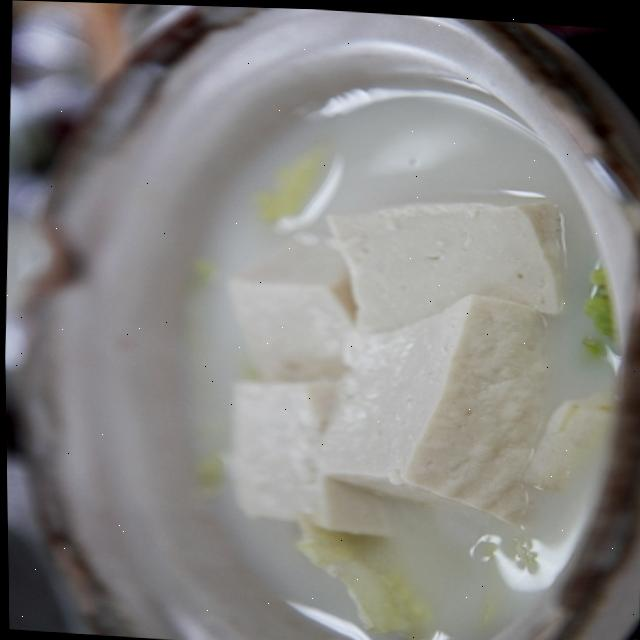豆腐料理: (31, 1, 640, 640)
